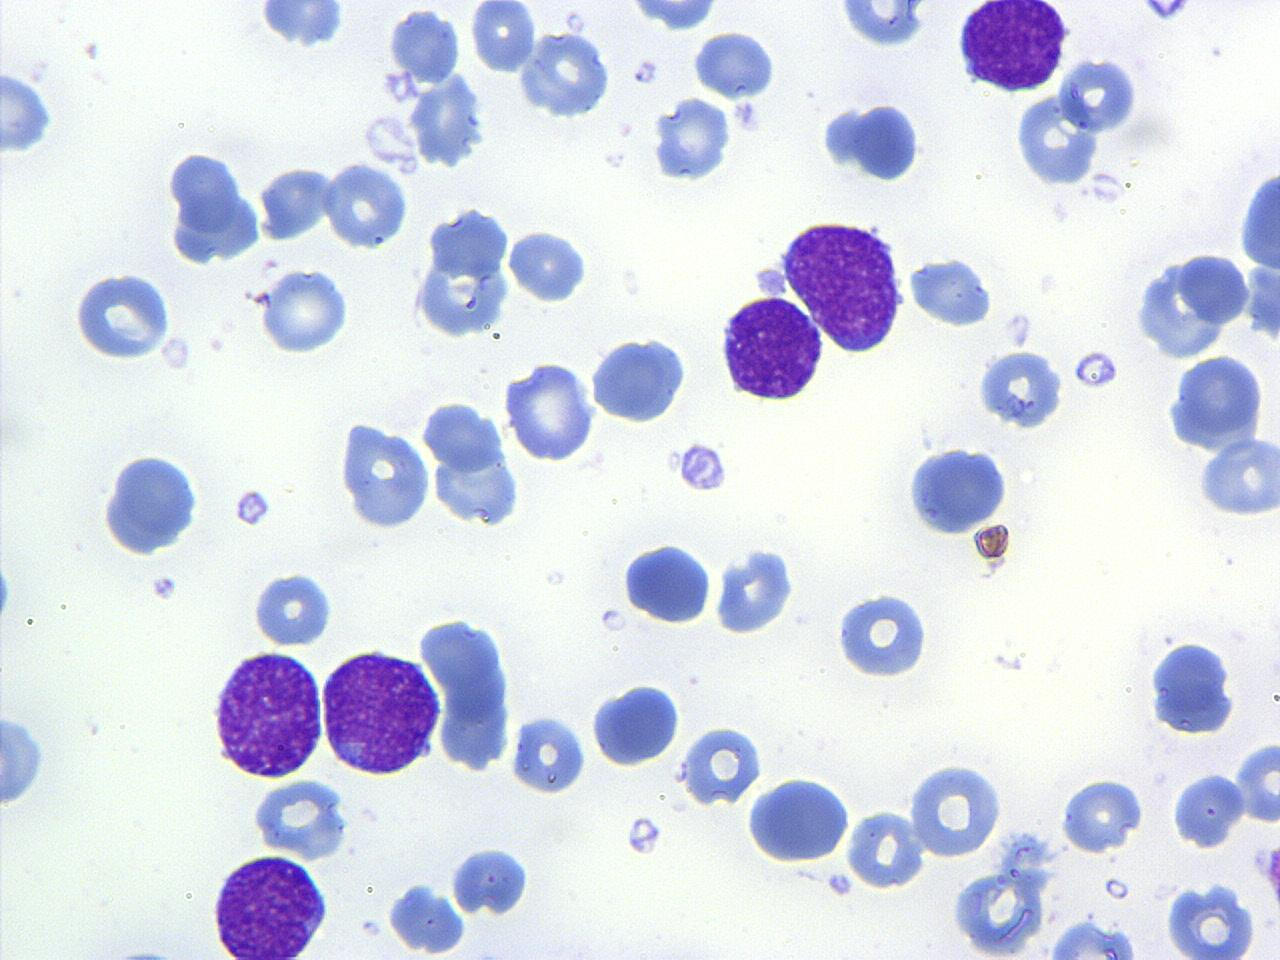Platelets: (71, 268, 187, 366), (251, 570, 340, 648), (446, 839, 536, 917), (0, 68, 56, 156), (834, 3, 926, 50), (254, 1, 329, 49), (674, 438, 730, 495), (820, 106, 866, 169), (292, 2, 345, 49), (0, 389, 33, 464), (231, 484, 274, 530), (1072, 348, 1120, 390), (623, 814, 664, 858), (1002, 308, 1036, 352), (110, 940, 180, 960), (1137, 0, 1197, 23), (752, 264, 788, 298), (732, 97, 760, 132), (148, 572, 180, 602), (0, 563, 15, 624), (1261, 838, 1279, 887), (824, 870, 855, 899), (632, 57, 660, 85), (1101, 876, 1133, 899), (1252, 844, 1272, 873), (358, 916, 384, 938), (251, 290, 271, 307), (1085, 910, 1097, 922)
RBC: (906, 760, 1005, 860), (259, 263, 351, 357), (321, 157, 408, 251), (1163, 882, 1257, 958), (507, 710, 590, 796), (845, 807, 925, 891), (255, 160, 336, 243), (1169, 770, 1245, 852), (468, 0, 537, 77), (1235, 737, 1280, 826)
WBC: (1159, 342, 1280, 535), (1010, 53, 1150, 203), (782, 210, 910, 354), (416, 608, 521, 776), (317, 644, 443, 779), (208, 646, 328, 782), (418, 393, 526, 532), (207, 849, 336, 960), (410, 203, 514, 340), (1134, 243, 1254, 361), (162, 142, 266, 267), (718, 293, 828, 405), (98, 448, 207, 560), (512, 9, 618, 122), (954, 0, 1075, 96), (336, 416, 434, 533), (69, 266, 179, 364), (903, 442, 1012, 541), (501, 357, 600, 464), (744, 772, 854, 866), (906, 758, 1007, 860), (589, 331, 693, 426), (949, 864, 1050, 960), (1148, 636, 1238, 738), (589, 678, 685, 770), (250, 774, 351, 862), (834, 588, 928, 681), (0, 684, 52, 851), (258, 264, 352, 356), (321, 156, 410, 250), (974, 346, 1069, 434), (620, 541, 714, 628), (710, 544, 796, 638), (650, 92, 733, 190), (1163, 879, 1261, 960), (679, 722, 764, 808), (1197, 434, 1280, 521), (1057, 774, 1145, 856), (509, 708, 588, 798), (846, 804, 924, 893), (447, 840, 530, 920), (507, 225, 592, 303), (906, 255, 994, 330), (690, 28, 780, 100), (256, 162, 335, 244), (385, 880, 468, 956), (1238, 144, 1280, 290), (849, 101, 925, 182), (1171, 767, 1245, 851), (386, 7, 464, 86), (1032, 917, 1156, 958), (467, 0, 536, 73), (834, 1, 927, 52), (1234, 737, 1280, 828), (614, 0, 730, 32)
